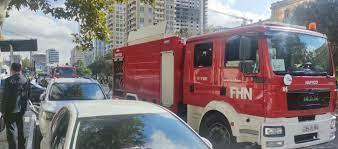Fire-engine: (111, 23, 335, 149)
